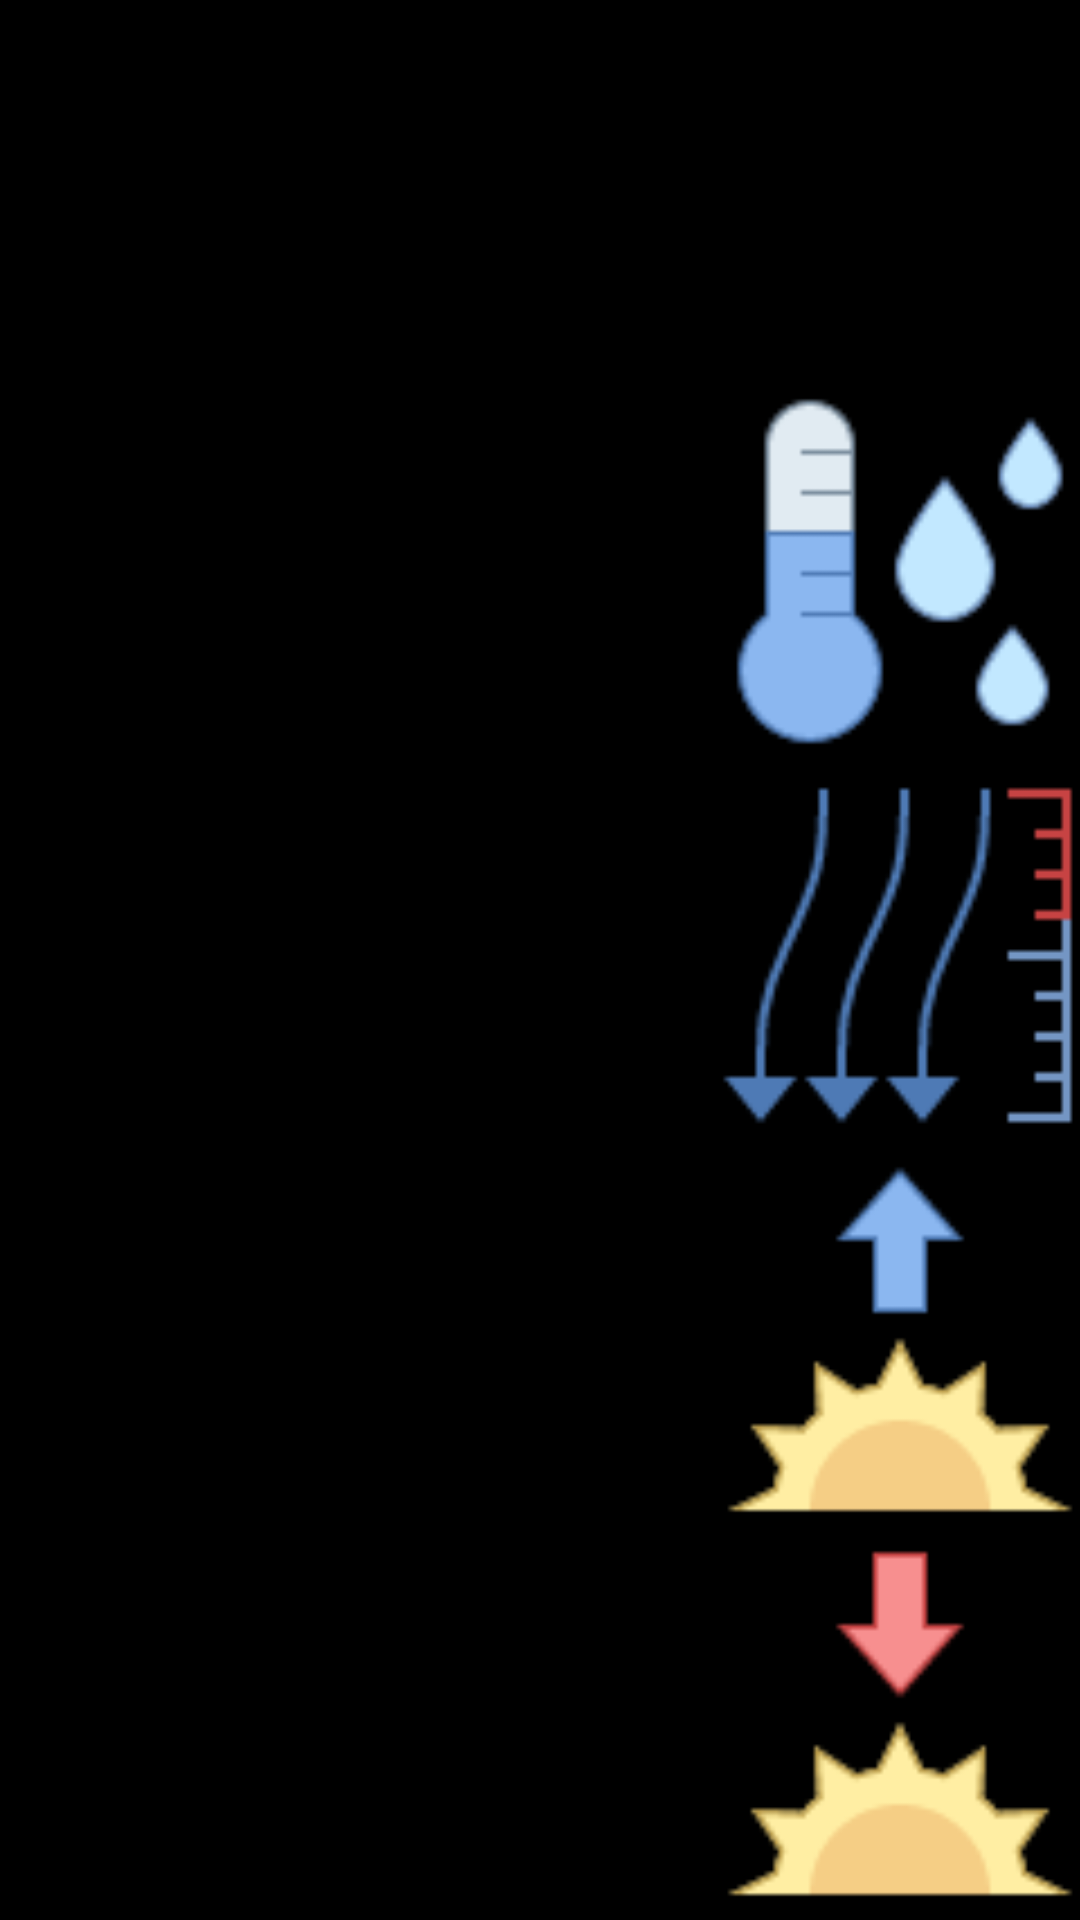

Icon click points for this 1080 × 1920 phone screenshot, format point (x, y):
humidity: point (900, 571)
pressure: point (898, 955)
sunrise: point (900, 1340)
sunset: point (900, 1723)
